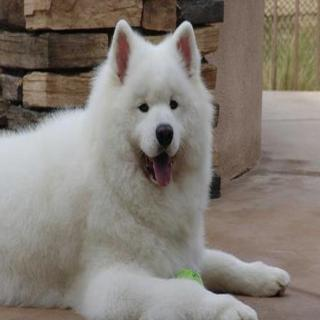dog: (96, 18, 216, 199)
nose: (154, 123, 173, 148)
